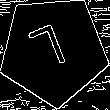L_S: (30, 21, 77, 80)
